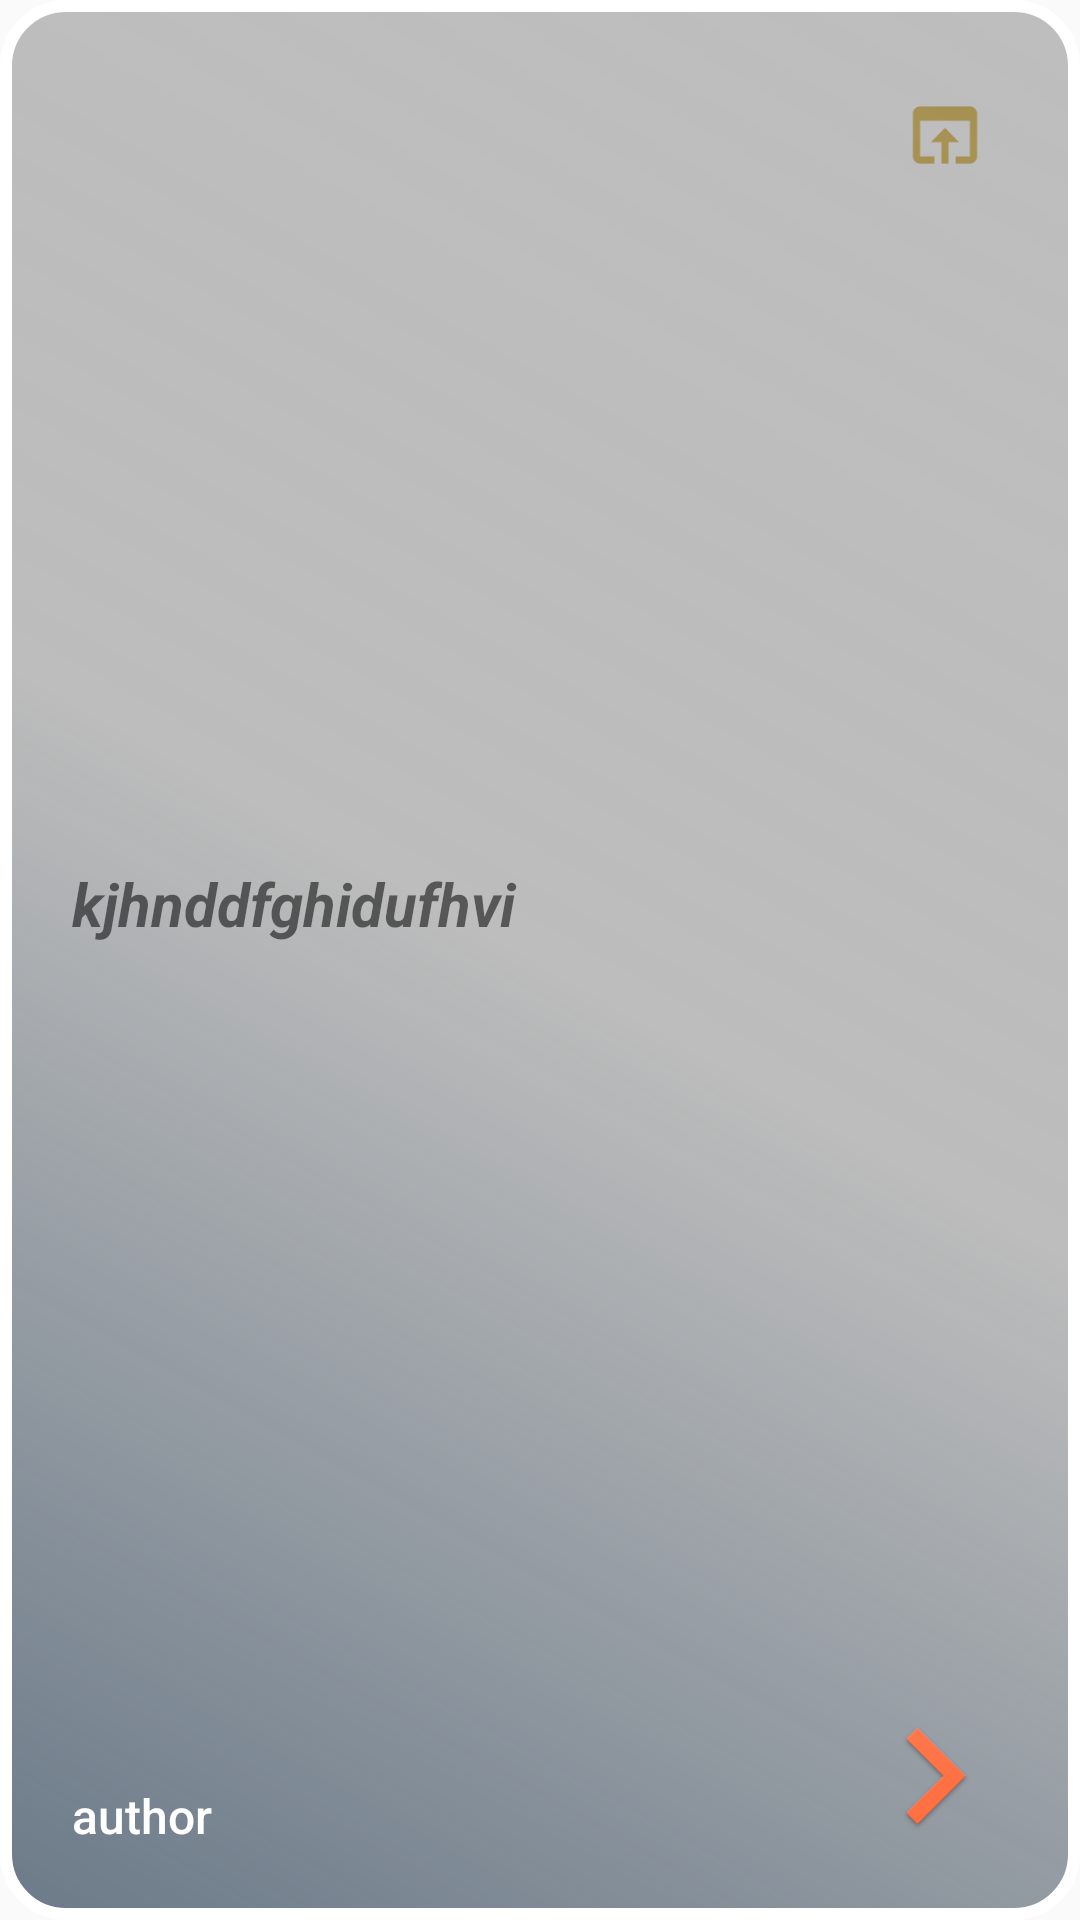

Screen size 1080*1920. Icon name, then its box in pixels as (x1, y1, x2, y2):
next: (906, 1728, 966, 1825)
open in browser: (912, 106, 978, 164)
